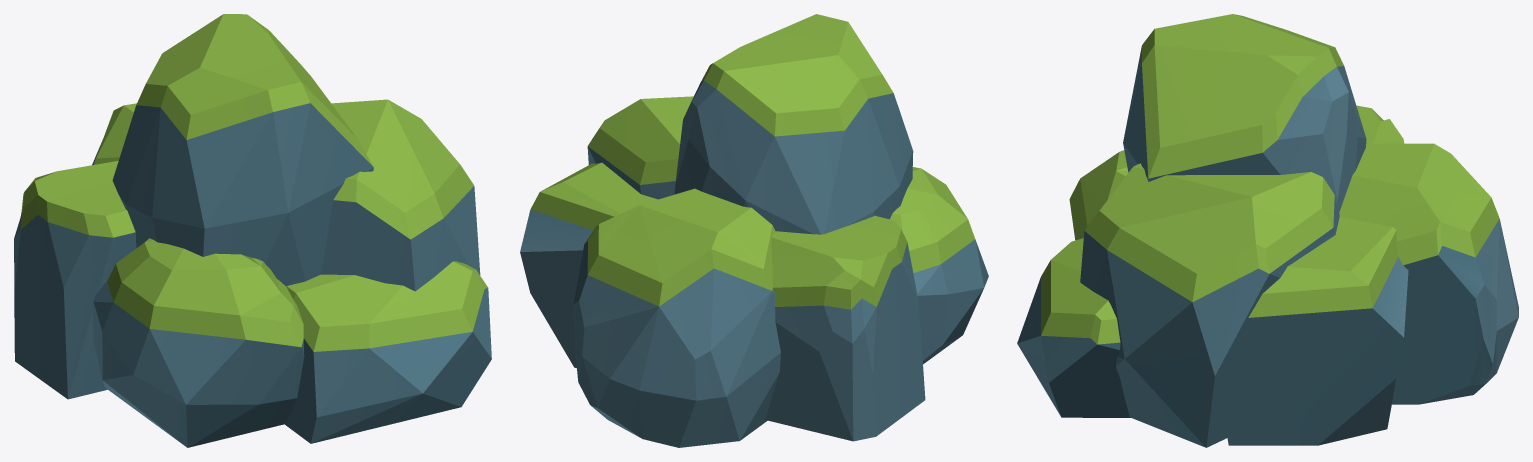
Rendered from Rock11.fbx.
The picture shows the model from 3 angles, left to right: view 1: azimuth 30°, elevation 25°; view 2: azimuth 150°, elevation 25°; view 3: azimuth 270°, elevation 25°; orthographic projection. The views are drawn at different scales.
Parts seen in each view (by area): view 1: Rock11_LOD0; view 2: Rock11_LOD0; view 3: Rock11_LOD0.
Boxes of the visible parts, box(x1,y1,x2,y2) form: Rock11_LOD0: box(14, 14, 491, 447); Rock11_LOD0: box(520, 14, 988, 447); Rock11_LOD0: box(1017, 14, 1518, 447).
Size of what is drawn, in the model's own units: 115 by 93.75 by 132.
